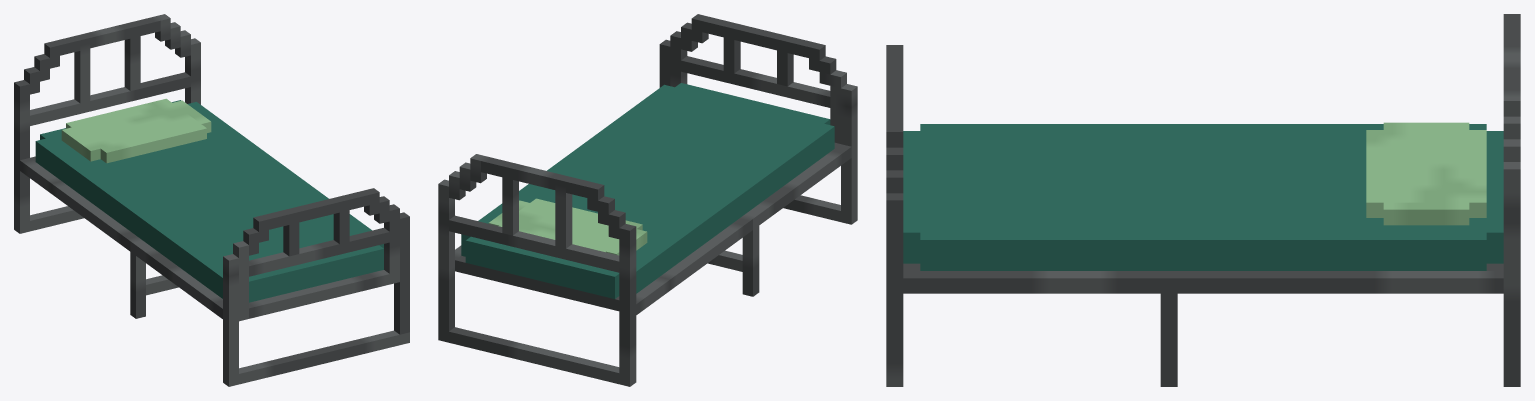
File: Bed_InfirmaryB_00.fbx
3 views of the same model, side by side, from view 1: azimuth 30°, elevation 25°; view 2: azimuth 150°, elevation 25°; view 3: azimuth 270°, elevation 25° (orthographic). The views are drawn at different scales.
Parts seen in each view (by area): view 1: Bed_InfirmaryB_00; view 2: Bed_InfirmaryB_00; view 3: Bed_InfirmaryB_00.
Boxes of the visible parts, x1,y1,x2,y2 form: Bed_InfirmaryB_00: [14, 14, 409, 386]; Bed_InfirmaryB_00: [438, 14, 857, 386]; Bed_InfirmaryB_00: [886, 14, 1520, 386].
Bounding box in the file's own units: 90 × 85 × 185.
